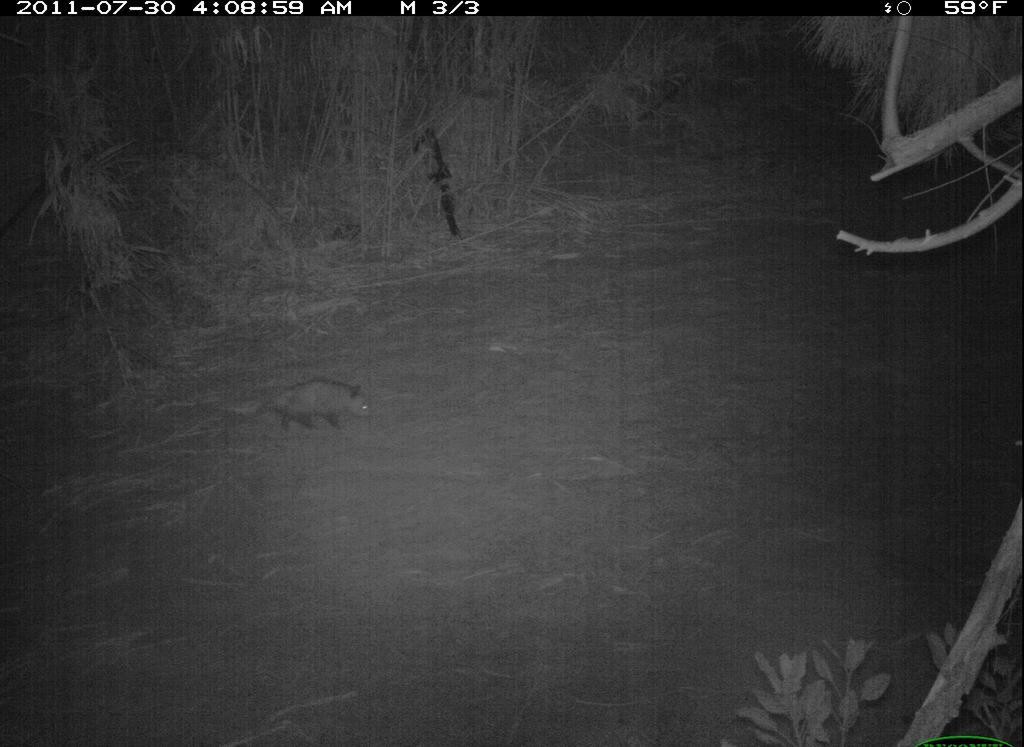opossum: (236, 377, 374, 441)
